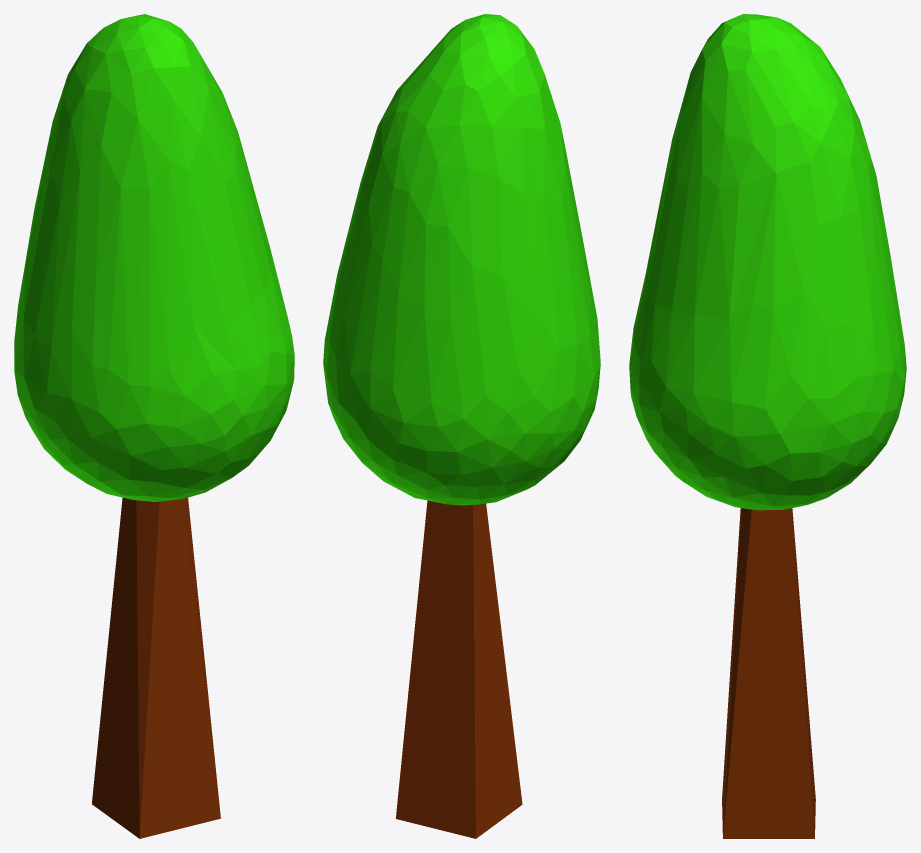
The model's file is thintree.fbx.
3 views of the same model, side by side, from view 1: azimuth 30°, elevation 25°; view 2: azimuth 150°, elevation 25°; view 3: azimuth 270°, elevation 25° (orthographic).
Visible parts, largest first — view 1: Cube; view 2: Cube; view 3: Cube.
Part boxes in pixels (x1,y1,x2,y2): Cube: (14, 14, 294, 838); Cube: (323, 14, 600, 838); Cube: (629, 14, 906, 838).
Size of the model in its own units: 553 by 1742 by 553.
